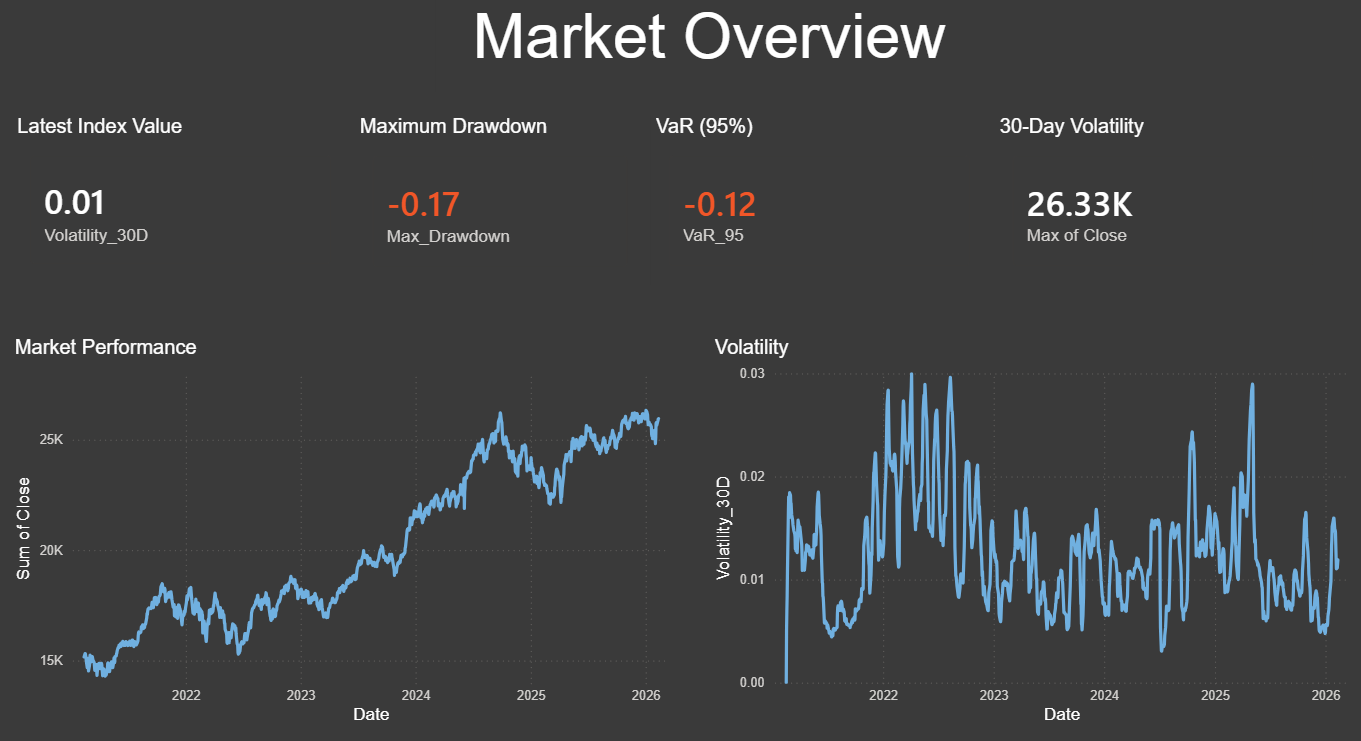

Layout of this report page (visuals, bound fields, positions):
{"tool":"powerbi","page":{"name":"Market Overview","canvas":[1280,720],"ordinal":0},"visuals":[{"type":"lineChart","title":"Market Performance","fields":{"Category":["Dim_Date.Date"],"Y":["Sum(Fact_Nifty.Close)"]},"box":[16.5,317,623,365],"z":0},{"type":"lineChart","title":"Volatility","fields":{"Category":["Dim_Date.Date"],"Y":["Dim_Date.Volatility_30D"]},"box":[666.9,317,603.8,365],"z":1000},{"type":"cardVisual","title":"30-Day Volatility","fields":{"Data":["Max(Fact_Nifty.Close)"]},"box":[932,111.1,314.2,157.8],"z":2000},{"type":"cardVisual","title":"Maximum Drawdown","fields":{"Data":["Dim_Date.Max_Drawdown"]},"box":[336.9,111.1,271.7,159.2],"z":3000},{"type":"cardVisual","title":"VaR (95%)","fields":{"Data":["Dim_Date.VaR_95"]},"box":[613.2,111.1,314.2,157.8],"z":4000},{"type":"cardVisual","title":"Latest Index Value","fields":{"Data":["Dim_Date.Volatility_30D"]},"box":[18.1,111.1,314.2,156.4],"z":5000},{"type":"textbox","box":[413,0,509.1,90.6],"z":5001}]}

Visuals, with their boxes on the page's 1280x720 design canvas (x1, y1, x2, y2). These are canvas units, not pixel positions in the 1361x741 screenshot, which may show the page scaled, cropped or inside an application window:
"Market Performance" lineChart: <box>16,317,640,682</box>
"Volatility" lineChart: <box>667,317,1271,682</box>
"30-Day Volatility" cardVisual: <box>932,111,1246,269</box>
"Maximum Drawdown" cardVisual: <box>337,111,609,270</box>
"VaR (95%)" cardVisual: <box>613,111,927,269</box>
"Latest Index Value" cardVisual: <box>18,111,332,268</box>
textbox: <box>413,0,922,91</box>
